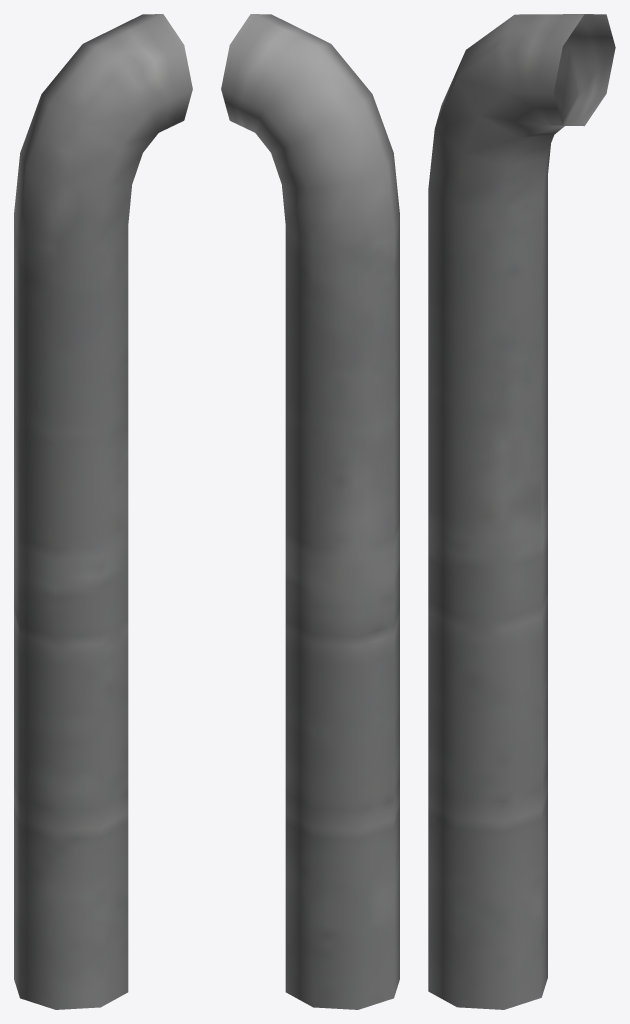
The model's file is MB_Tube_A_Angle_04.fbx.
3 views of the same model, side by side, from view 1: azimuth 30°, elevation 25°; view 2: azimuth 150°, elevation 25°; view 3: azimuth 330°, elevation 25° (orthographic). The views are drawn at different scales.
Parts seen in each view (by area): view 1: MB_Tube_A_Angle_04; view 2: MB_Tube_A_Angle_04; view 3: MB_Tube_A_Angle_04.
Part boxes in pixels (<box>): MB_Tube_A_Angle_04: <box>14,14,192,1009</box>; MB_Tube_A_Angle_04: <box>221,14,399,1009</box>; MB_Tube_A_Angle_04: <box>428,14,615,1009</box>.
Size of the model in its own units: 4.9 by 30.98 by 3.5.
